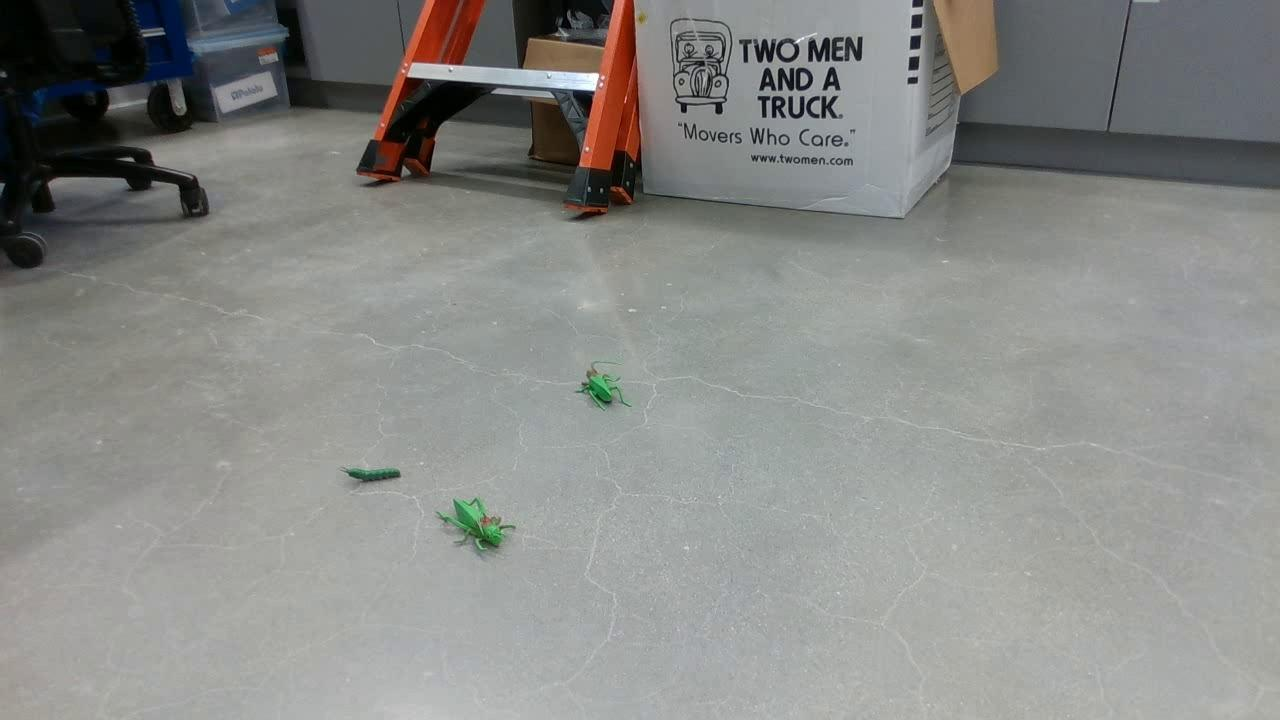grasshopper: (440, 500, 519, 558), (568, 359, 645, 411)
